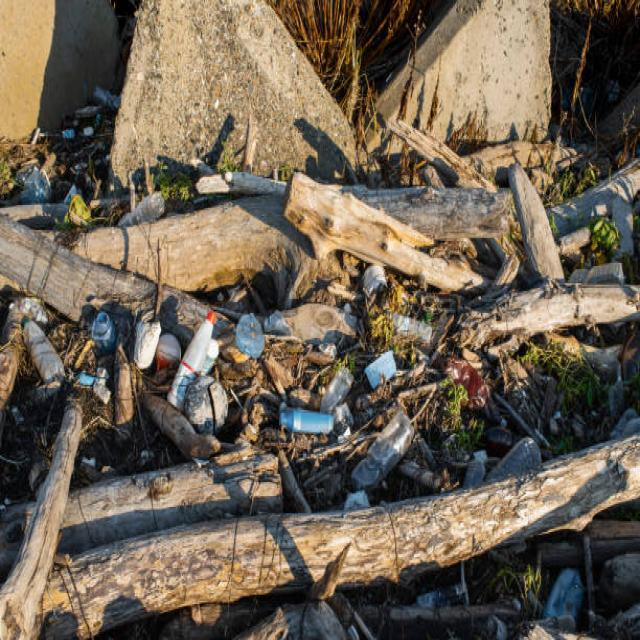plastic: (111, 300, 475, 460)
